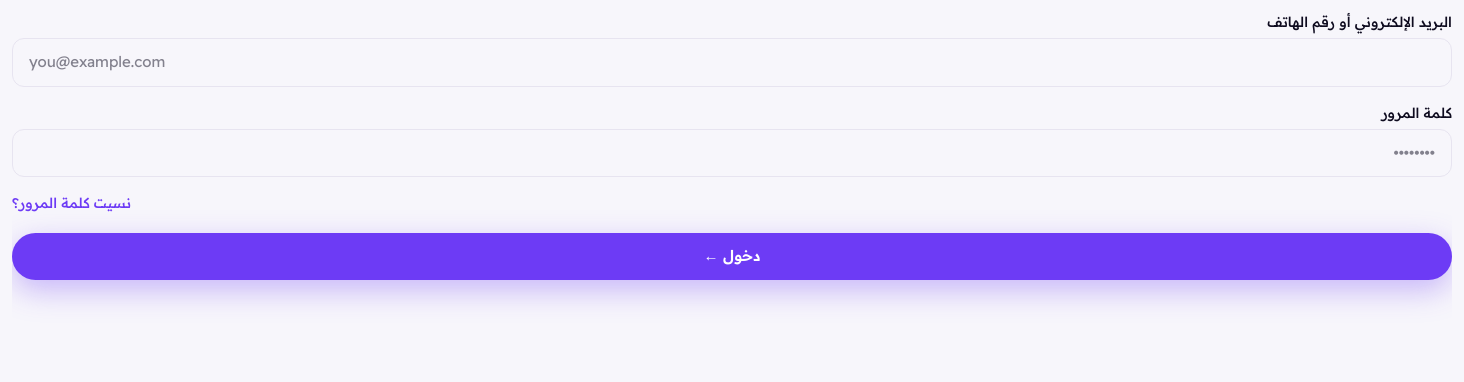
Test: explains when phone verification is still required
Type "a@example.com" into the field with placeholder "you@example.com" at (732,62), box [12,38,1452,86]
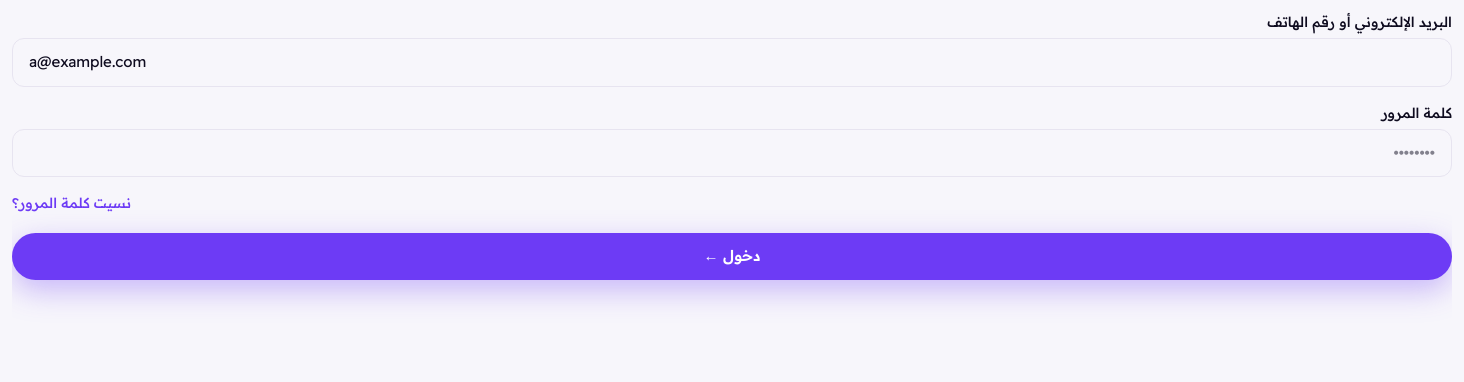
Type "secret-pass" into the password field with placeholder "••••••••" at (732,153), box [12,128,1452,177]
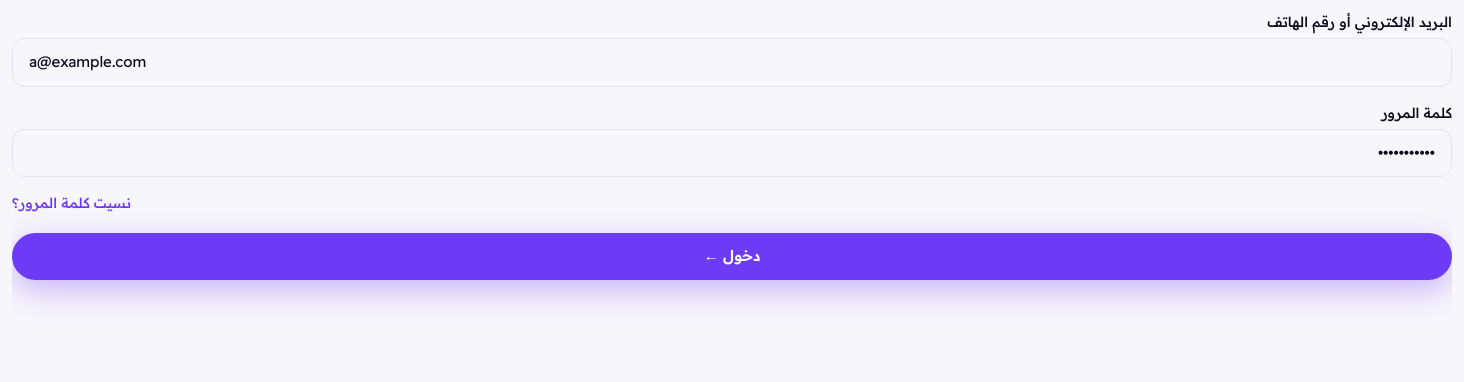
Click the button "دخول ←" at (732,256), box [12,233,1452,280]
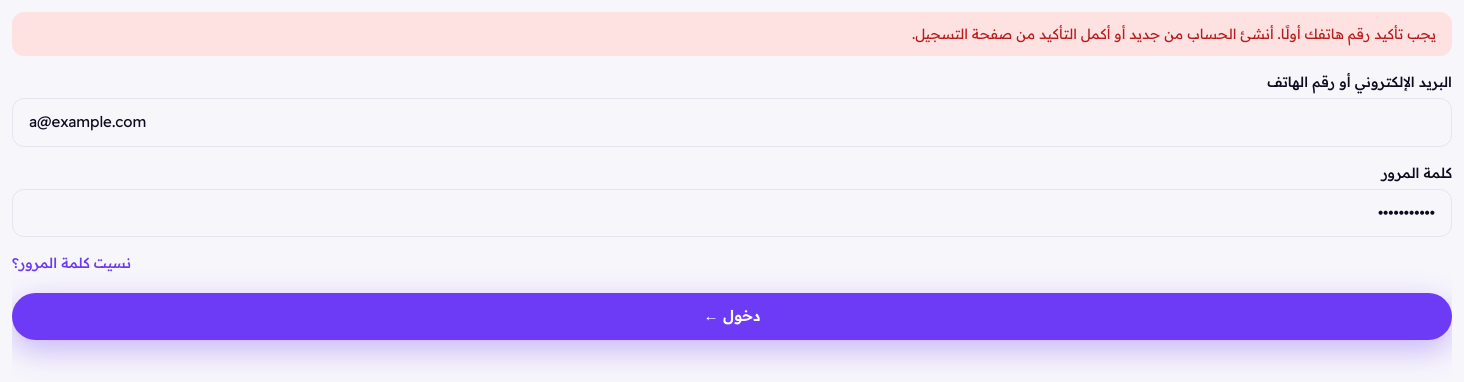
Now the text "تأكيد رقم هاتفك" is shown, box [912,25,1436,43]
